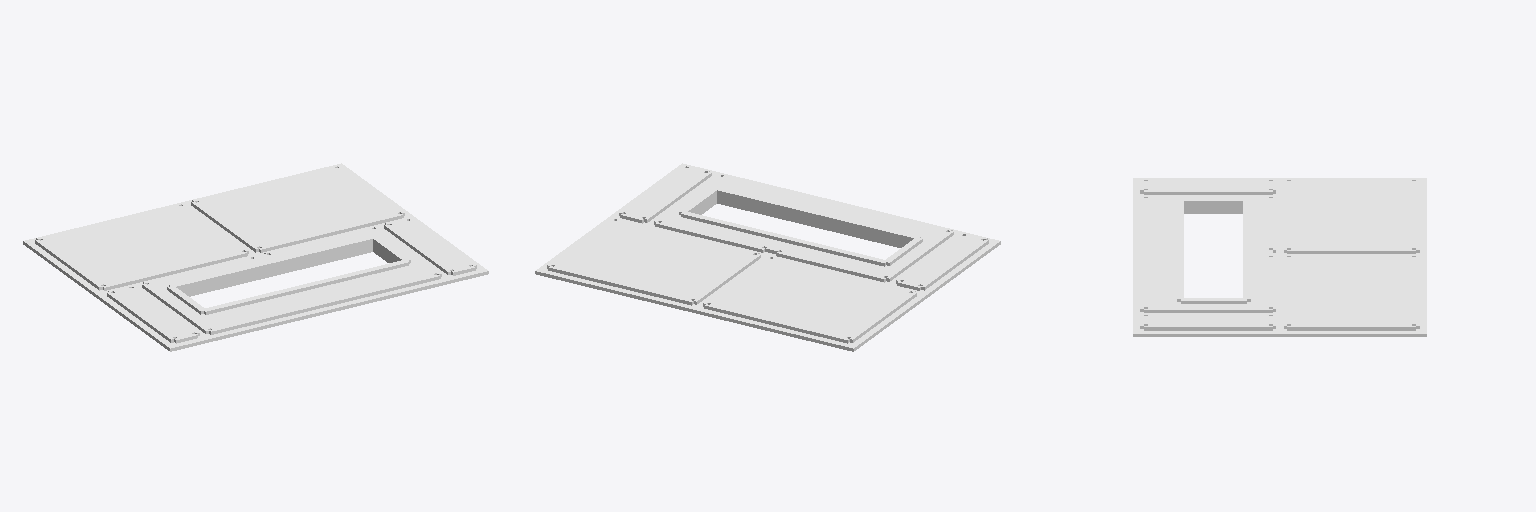
Rendered from a792_WindowPanel.obj.
3 views of the same model, side by side, from view 1: azimuth 30°, elevation 25°; view 2: azimuth 150°, elevation 25°; view 3: azimuth 270°, elevation 25° (orthographic).
Bounding box in the file's own units: 100 × 4 × 80.